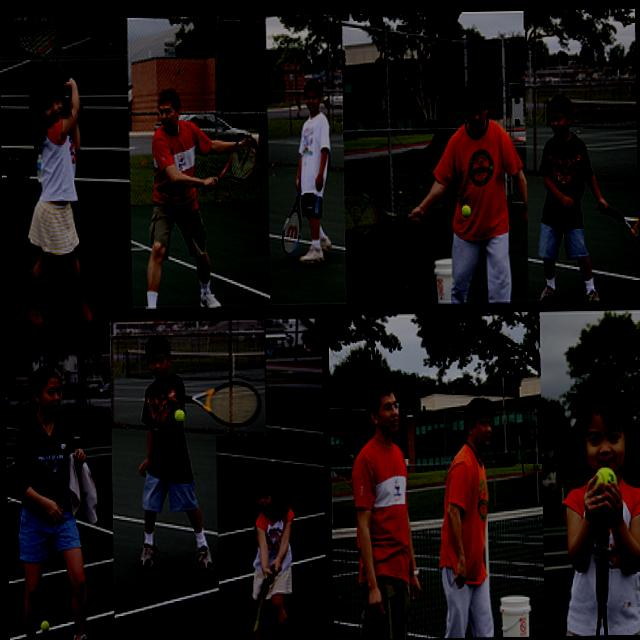Vehicle: (178, 114, 250, 142), (286, 343, 312, 355)
